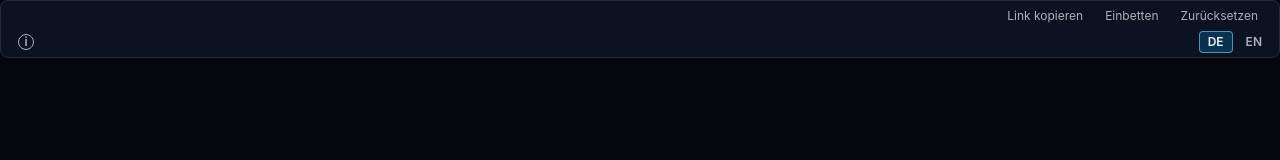
Test: Kopfzeile: Link kopieren und Zurücksetzen › kopiert den Link, meldet „Kopiert" und lässt die Adresszeile sauber
Click the button "Link kopieren" at (1045, 16), box [998, 5, 1092, 27]
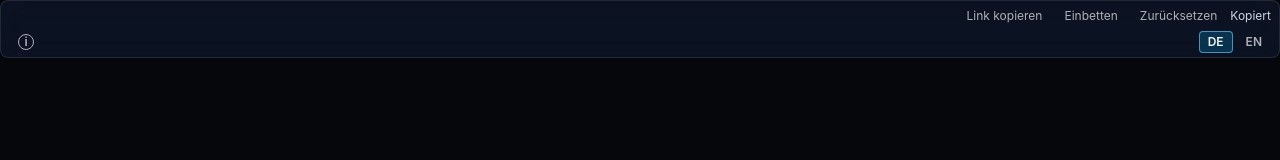
Expected: the message reads "Kopiert", [1230, 8, 1271, 23]
